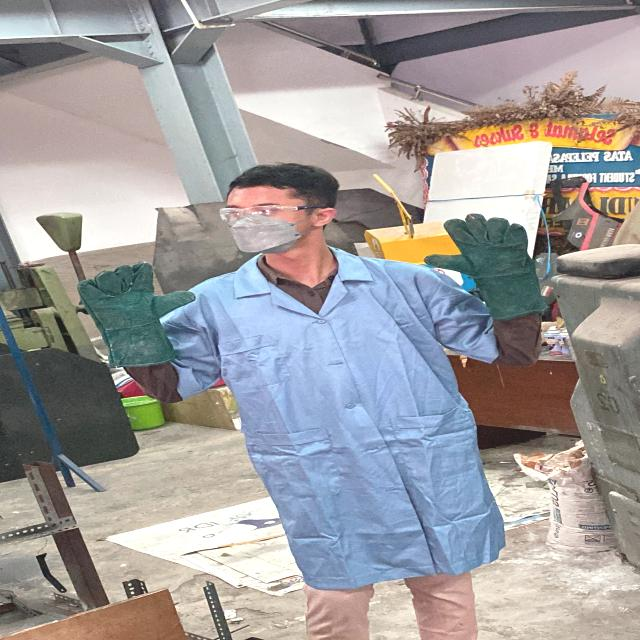face_mask: (217, 200, 307, 257)
glasses: (213, 201, 335, 226)
hand_glove: (66, 256, 206, 333), (418, 208, 536, 286)
head_nohelmet: (228, 159, 338, 202)
person: (68, 152, 560, 640)
